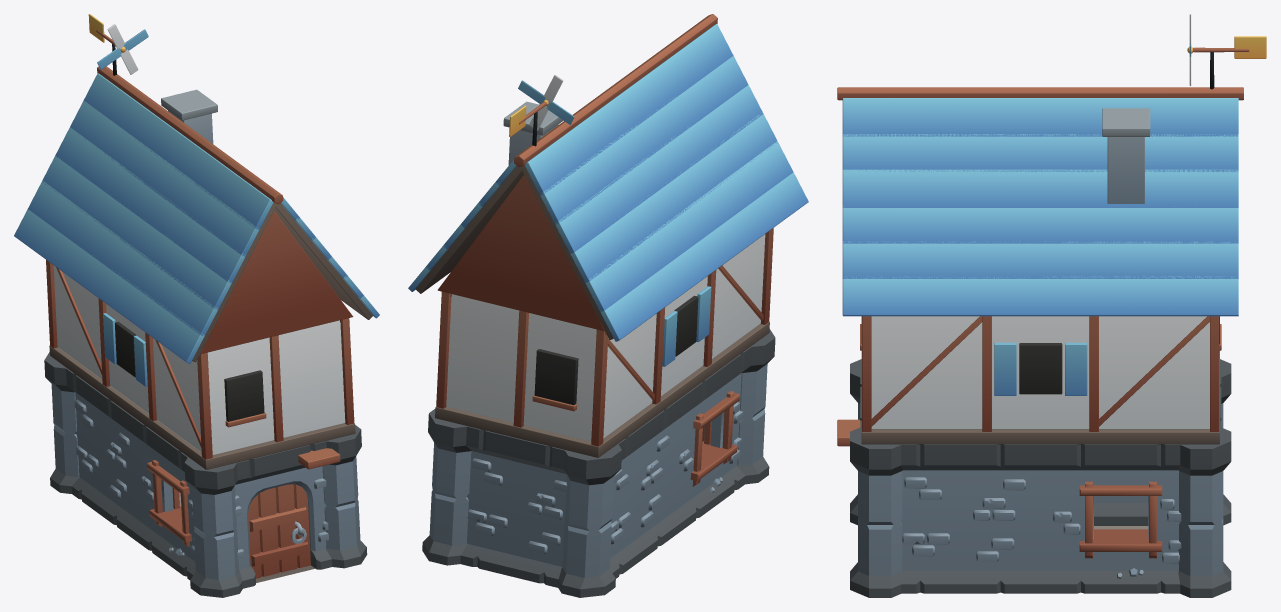
File: cliff_house.glb
3 renders of one model, left to right at view 1: azimuth 30°, elevation 25°; view 2: azimuth 150°, elevation 25°; view 3: azimuth 270°, elevation 25°, orthographic. The views are drawn at different scales.
Parts seen in each view (by area): view 1: cliff_house; view 2: cliff_house; view 3: cliff_house.
Boxes of the visible parts, x1,y1,x2,y2 form: cliff_house: (14,14,379,597); cliff_house: (408,14,808,597); cliff_house: (837,14,1266,597).
Size of the model in its own units: 4.78 by 10.89 by 8.02.
2 materials, 2 textured.
